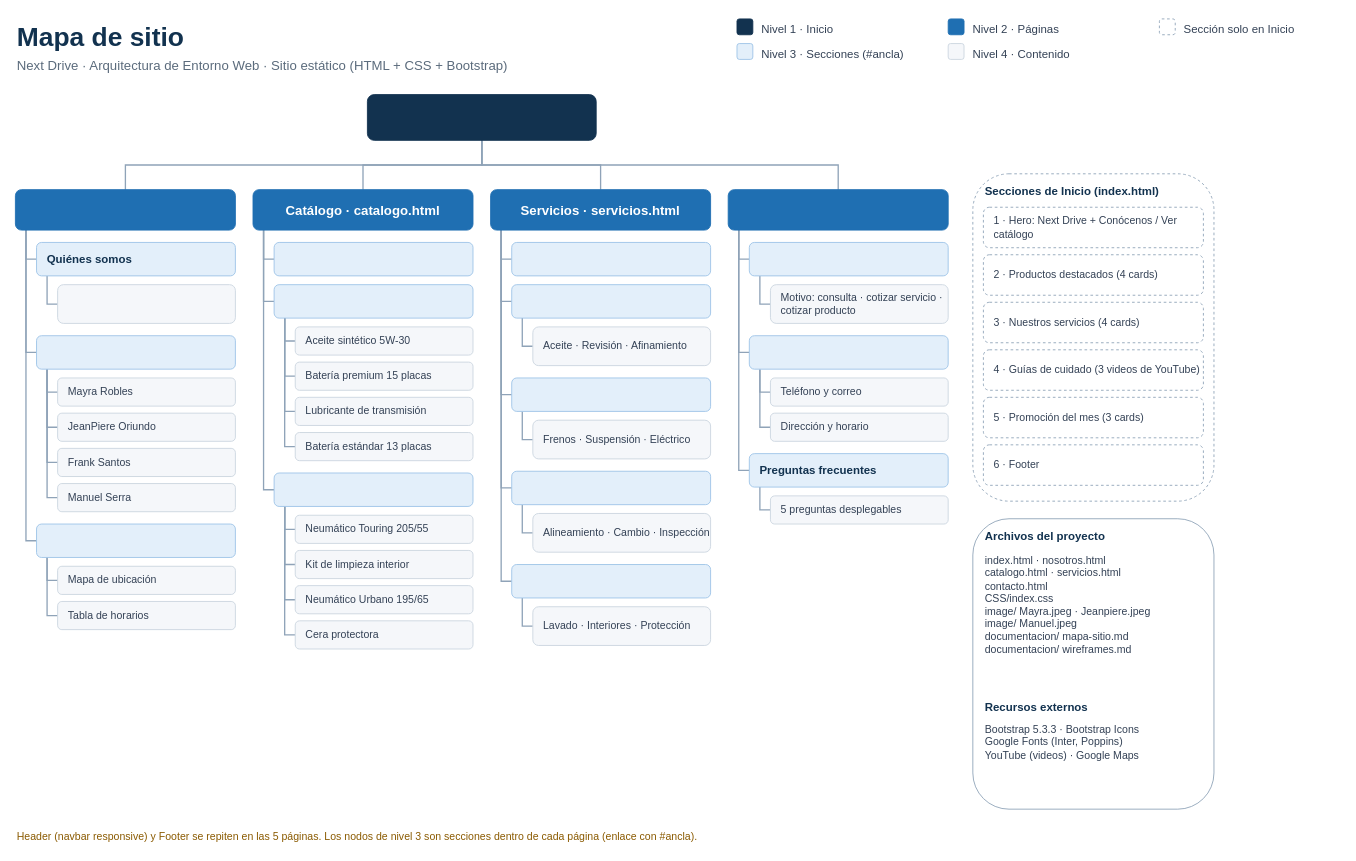
Image size: 1356x861. Some labels were removed from this diagram. The shapes that lost their labels are listed below. From the top down, each one's box as (x1, y1, x2, y2) in pixels, then its label:
(367, 94, 596, 140): Inicio · index.html
(15, 189, 235, 230): Nosotros · nosotros.html
(727, 189, 948, 230): Contacto · contacto.html
(273, 242, 473, 276): Navegación de categorías
(511, 242, 711, 276): Navegación de servicios
(748, 242, 948, 276): Formulario de contacto
(57, 284, 235, 323): Valores: Transparencia · Excelencia · Cercanía
(273, 284, 473, 318): Lubricantes y energía
(511, 284, 711, 318): Mantenimiento preventivo
(36, 335, 235, 369): Equipo técnico
(748, 335, 948, 369): Contacto directo
(511, 377, 711, 411): Mantenimiento correctivo
(273, 472, 473, 506): Neumáticos y cuidado
(511, 470, 711, 505): Neumáticos
(36, 523, 235, 557): Sede y horarios
(511, 564, 711, 598): Cuidado estético
